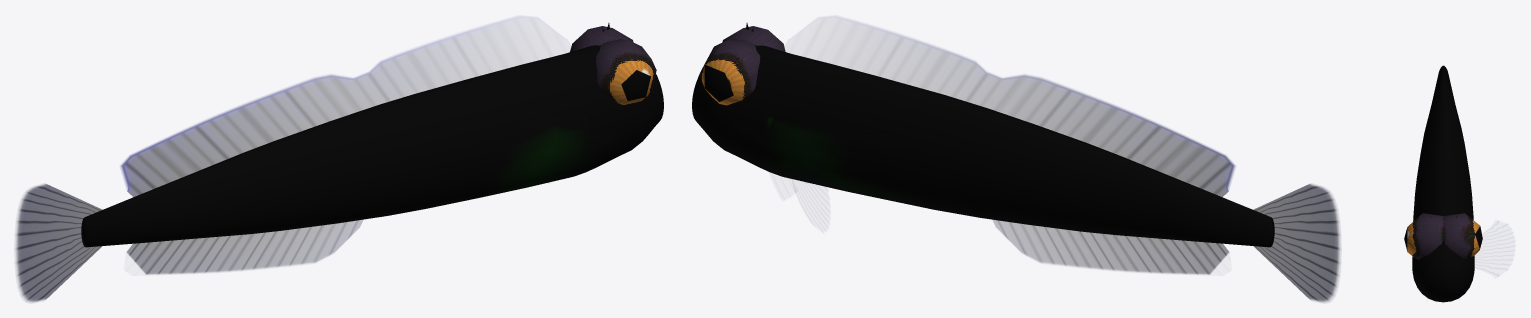
Rendered from bicolor_blenny_lod1.glb.
3 views of the same model, side by side, from view 1: azimuth 30°, elevation 25°; view 2: azimuth 150°, elevation 25°; view 3: azimuth 270°, elevation 25° (orthographic). The views are drawn at different scales.
Parts seen in each view (by area): view 1: Body, FinDorsal, FinAnal, FinCaudal, EyeR, EyeL; view 2: Body, FinDorsal, FinAnal, FinCaudal, EyeL, EyeR; view 3: Body, EyeL, EyeR.
Boxes of the visible parts, x1,y1,x2,y2 form: Body: [81, 23, 663, 247]; FinDorsal: [120, 22, 509, 197]; FinAnal: [126, 220, 362, 274]; FinCaudal: [15, 184, 102, 302]; EyeR: [596, 39, 656, 104]; EyeL: [570, 26, 633, 51]; Body: [692, 23, 1274, 247]; FinDorsal: [846, 22, 1235, 197]; FinAnal: [993, 220, 1229, 274]; FinCaudal: [1253, 184, 1340, 302]; EyeL: [699, 39, 760, 105]; EyeR: [722, 26, 785, 51]; Body: [1412, 65, 1474, 302]; EyeL: [1443, 213, 1482, 258]; EyeR: [1404, 213, 1443, 259].
Size of the model in its own units: 1 by 0.2972 by 0.2681.
Materials: 4 (3 with a texture image).
